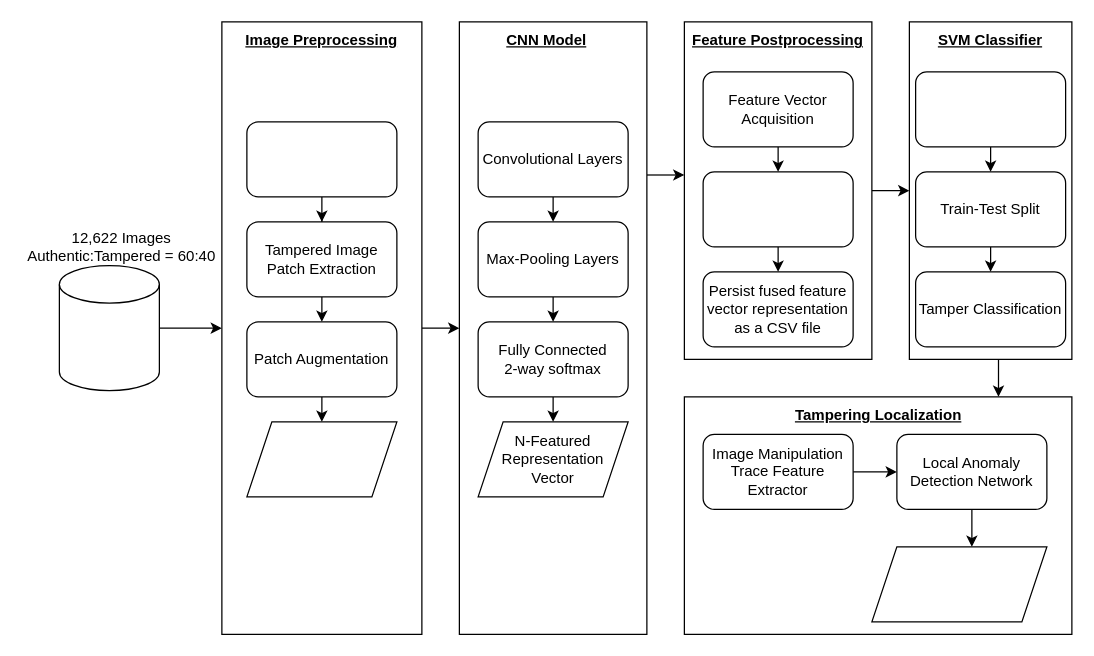
Some shapes in this 1094 by 656 pixel diagram are drawn without their labels. Each missing label, with the box of its shape:
Augmented Image Patches (128 x 128 x3): (246, 421, 397, 497)
Authentic Image Patch Extraction: (246, 121, 397, 197)
CASIA Dataset: (58, 264, 159, 391)
Fused Feature Vector Acquisition: (914, 71, 1066, 147)
Mean/Max Fusion: (702, 171, 853, 247)
Predicted Tampered Image Masks: (871, 546, 1047, 622)
